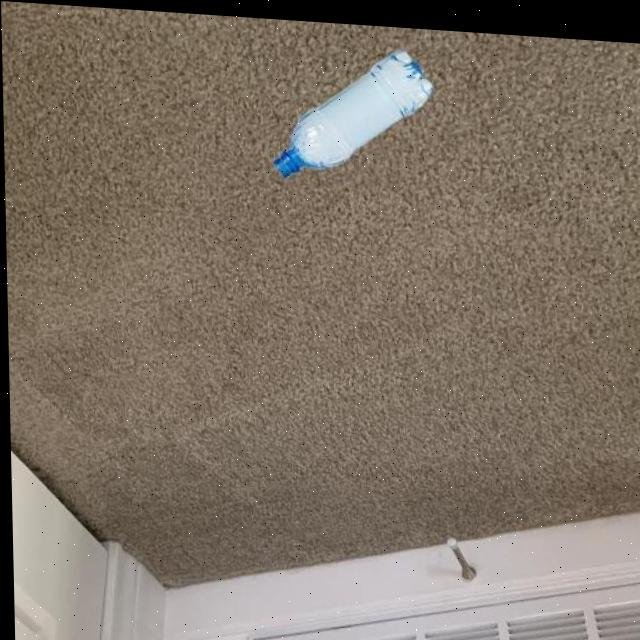bottle: (269, 36, 438, 183)
